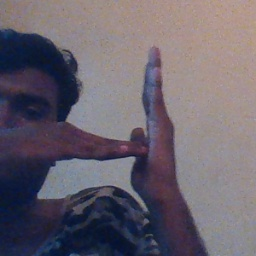Z: (70, 43, 180, 204)
